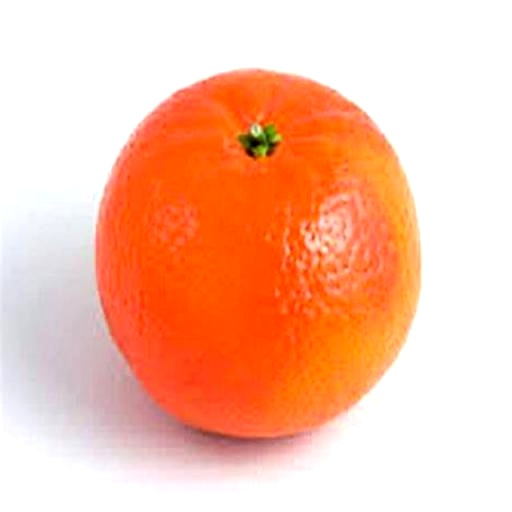fruit: (96, 71, 419, 436)
